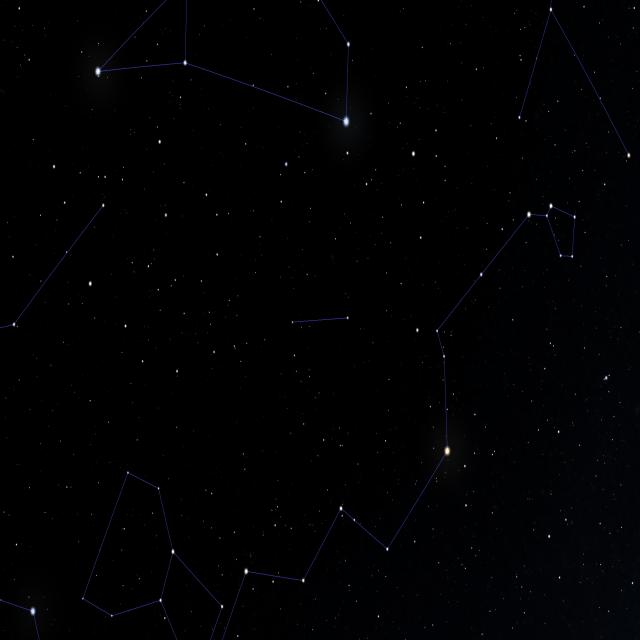Sextans: (288, 308, 350, 330)
